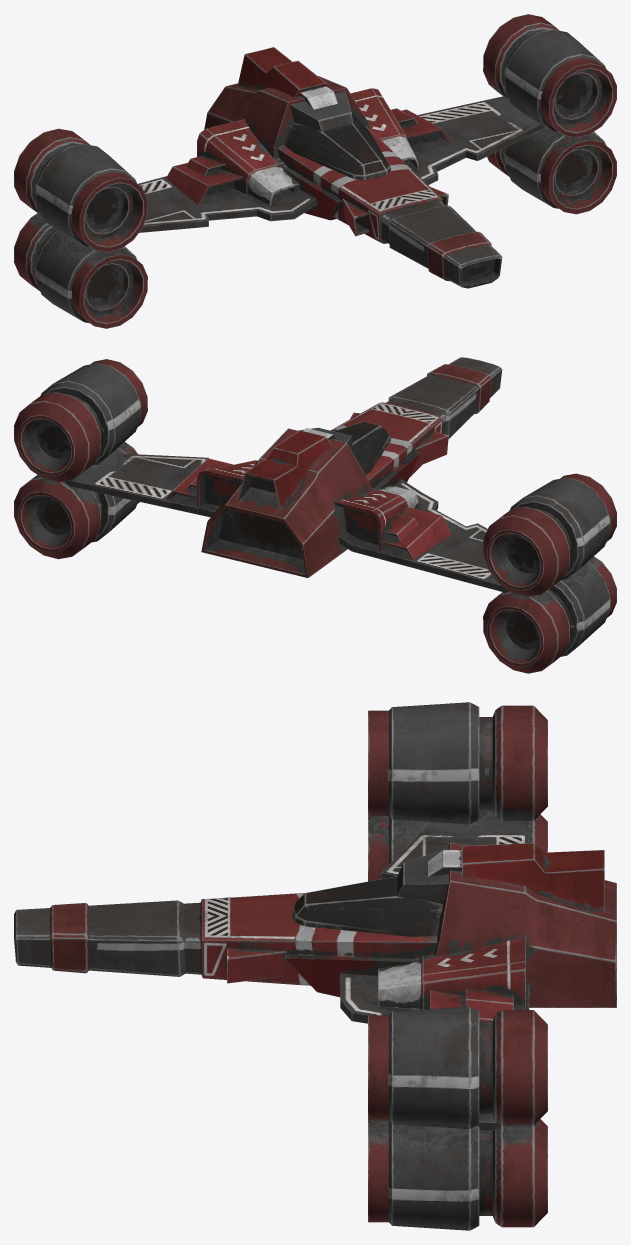
The model's file is spitfire.glb.
3 views of the same model, one above another, from view 1: azimuth 30°, elevation 25°; view 2: azimuth 150°, elevation 25°; view 3: azimuth 270°, elevation 25° (orthographic). The views are drawn at different scales.
Visible parts, largest first — view 1: Spitfire; view 2: Spitfire; view 3: Spitfire.
Part boxes in pixels (<box>): Spitfire: <box>14,14,616,328</box>; Spitfire: <box>14,357,616,673</box>; Spitfire: <box>14,702,616,1230</box>.
Size of the model in its own units: 10.52 by 3.06 by 7.53.
Materials: 1 (1 with a texture image).
